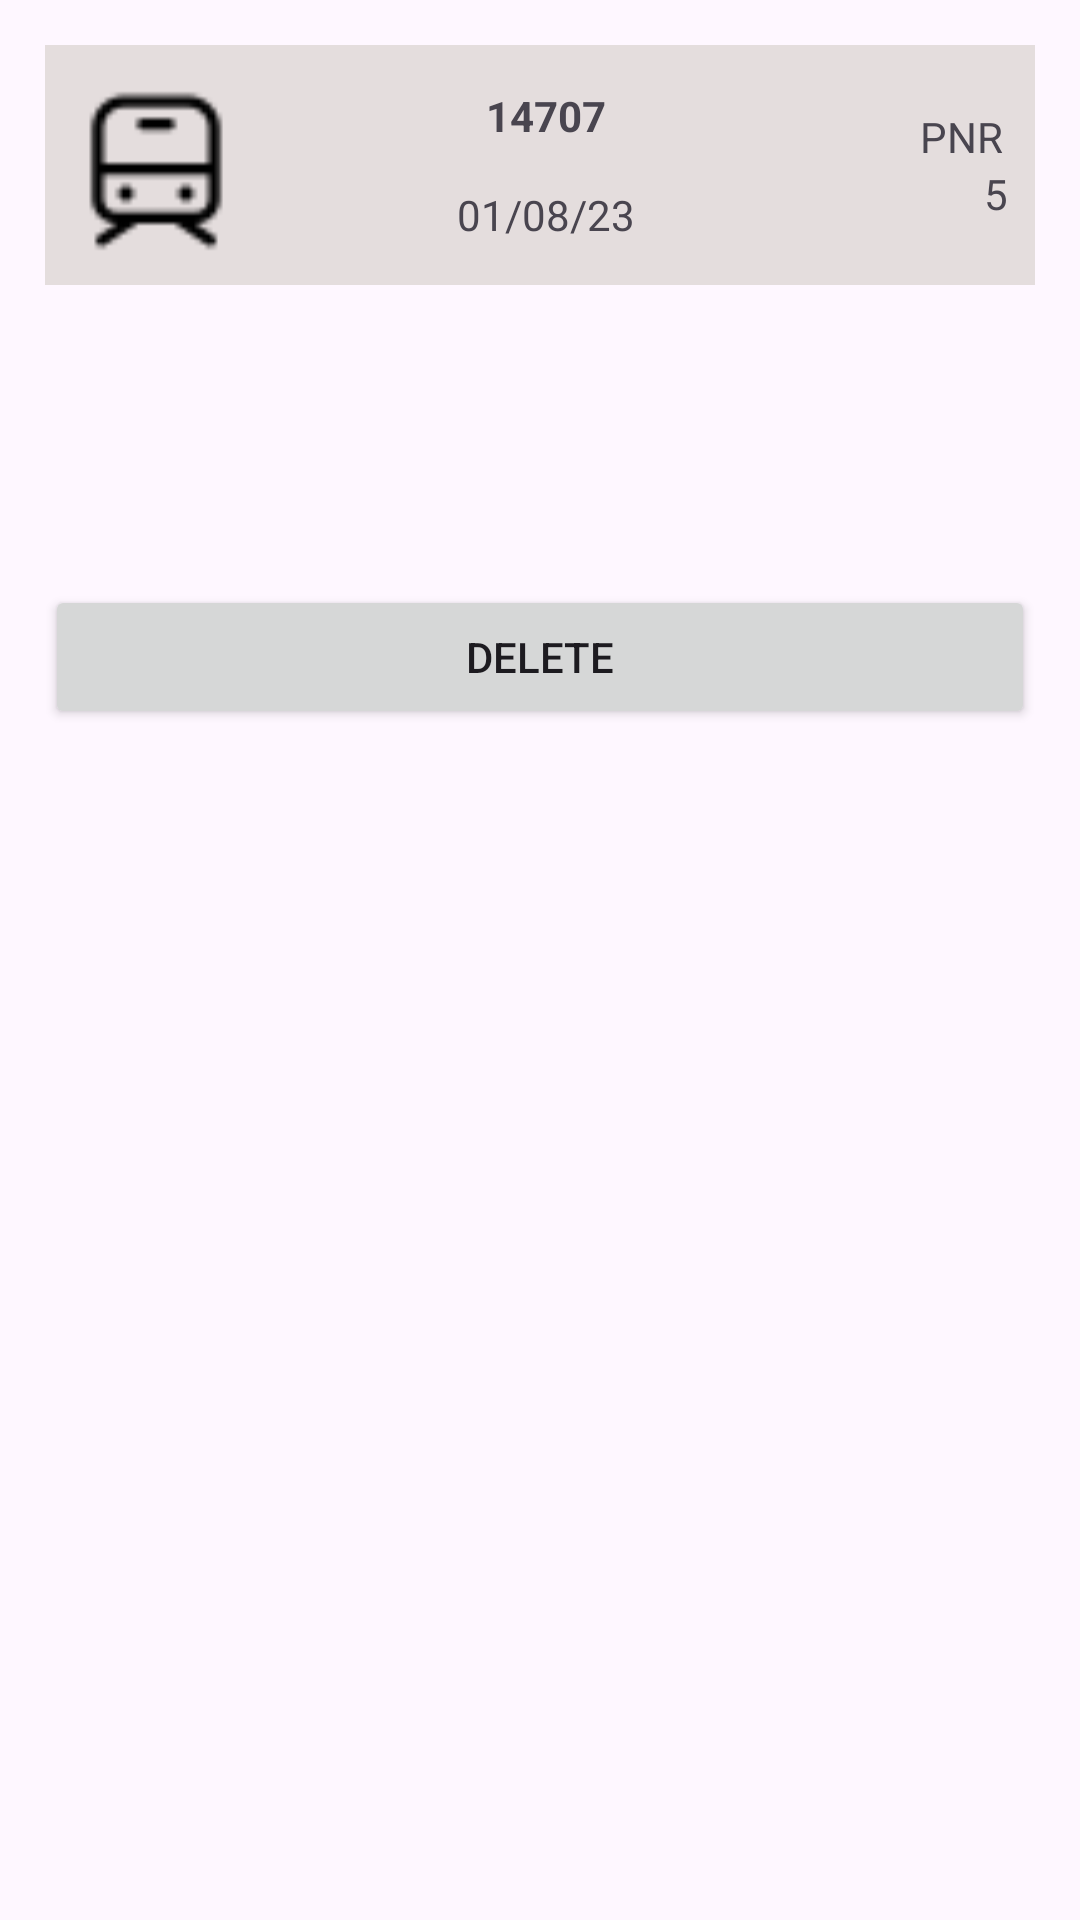

Named icons in this screenshot (1080 x 1920) and their bounding boxes, (x1, y1, x2, y2):
trainsmallicon: (89, 92, 223, 250)
